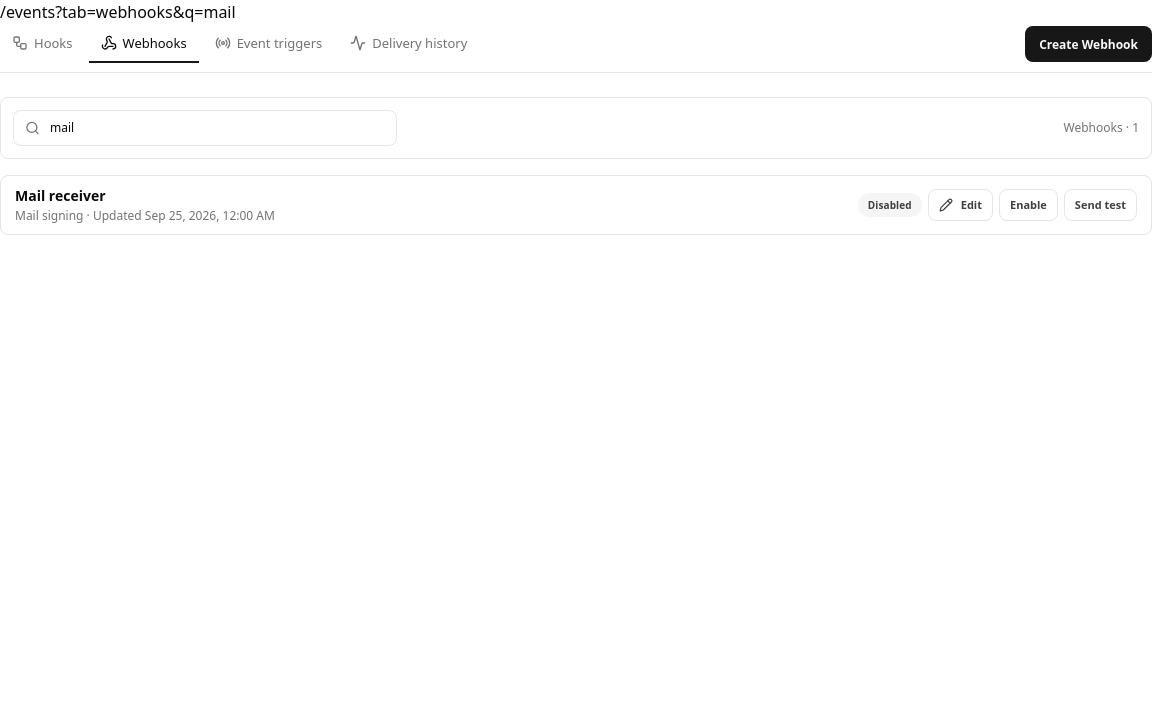
Test case: Hooks & Events and Scheduled jobs Admin surfaces › opens a Webhook editor from its row and preserves the search in the deep link
The width and height of the screenshot is (1152, 720).
Click the button with aria-label "Edit Mail receiver" at [960, 205], box [928,189,993,221]
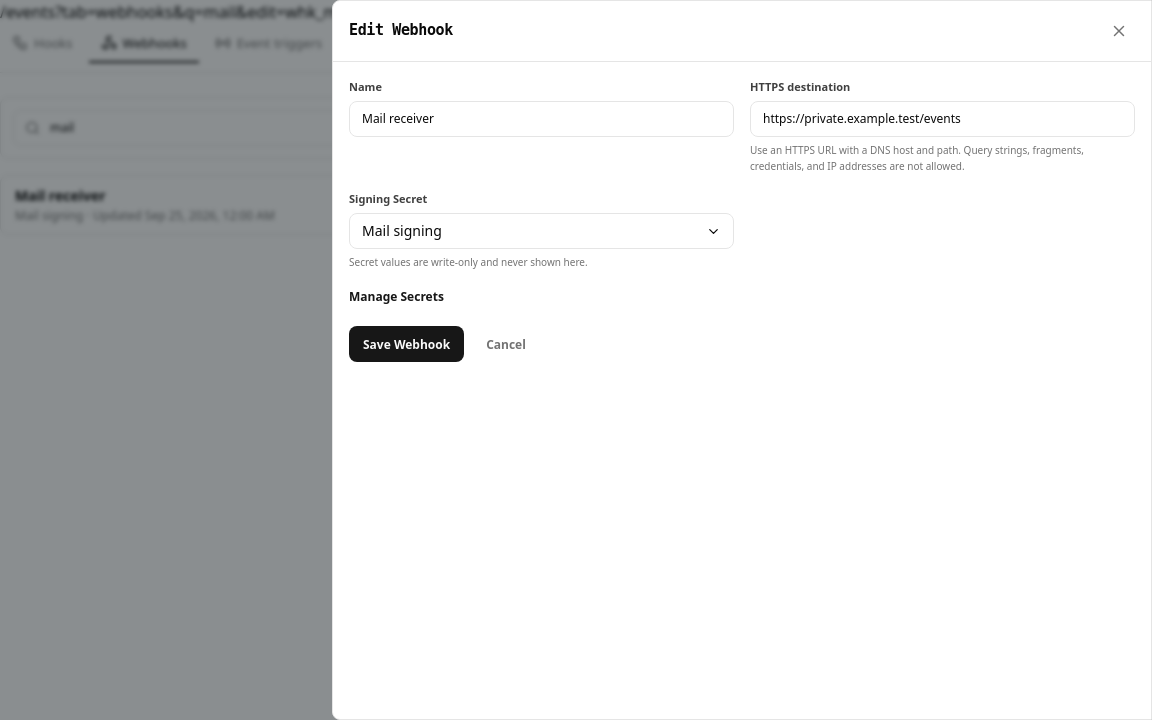
Expected: the text named "Current URL" reads "/events?tab=webhooks&q=mail&edit=whk_mail", [0,1,356,23]
Expected: the field labelled "HTTPS destination" holds "https://private.example.test/events", [750,101,1135,137]
